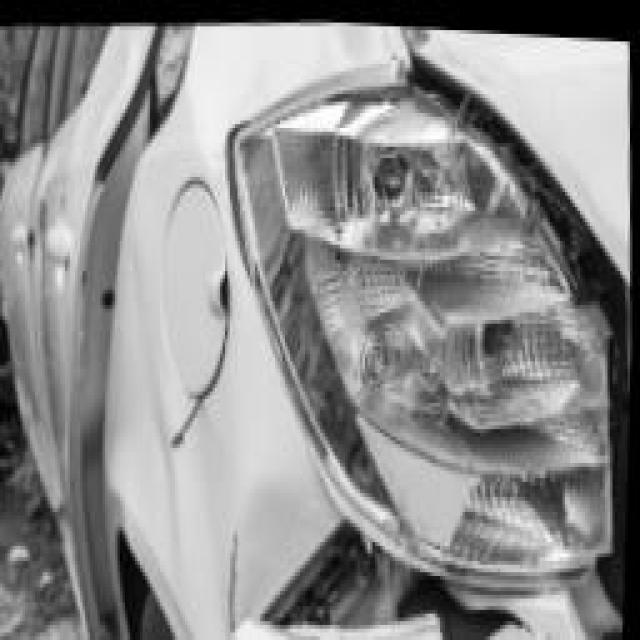Fender: (182, 493, 249, 639)
Light: (295, 23, 602, 546)
